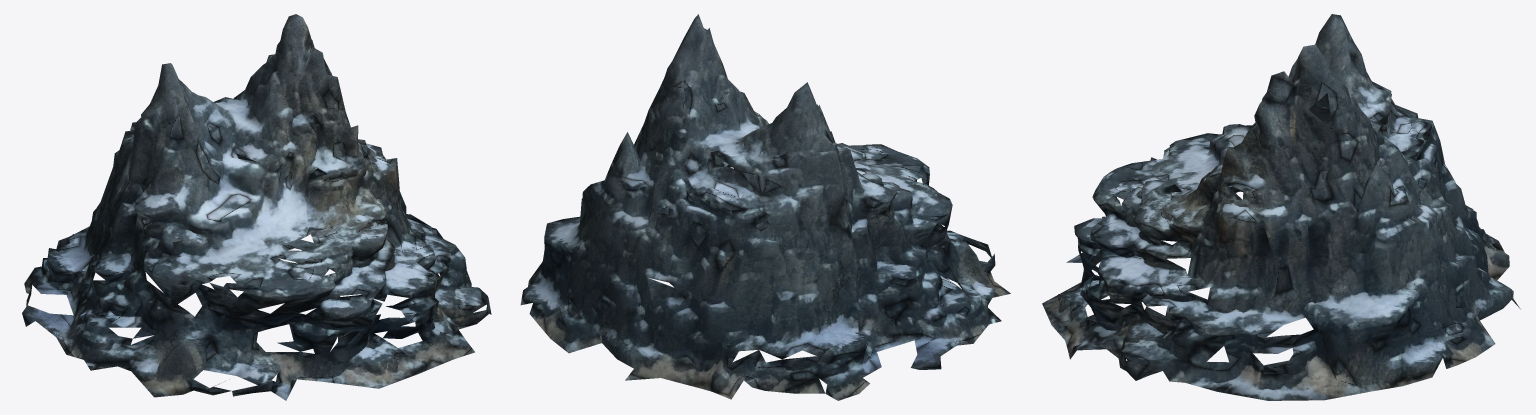
Rendered from mountain-2.glb.
3 renders of one model, left to right at view 1: azimuth 30°, elevation 25°; view 2: azimuth 150°, elevation 25°; view 3: azimuth 270°, elevation 25°, orthographic. The views are drawn at different scales.
Visible parts, largest first — view 1: geometry_0; view 2: geometry_0; view 3: geometry_0.
Part boxes in pixels (x1,y1,x2,y2): geometry_0: (22,14,491,400); geometry_0: (520,14,1010,400); geometry_0: (1042,14,1520,400).
Bounding box in the file's own units: 0.9622 × 0.6146 × 0.9387.
Materials: 1 (1 with a texture image).
